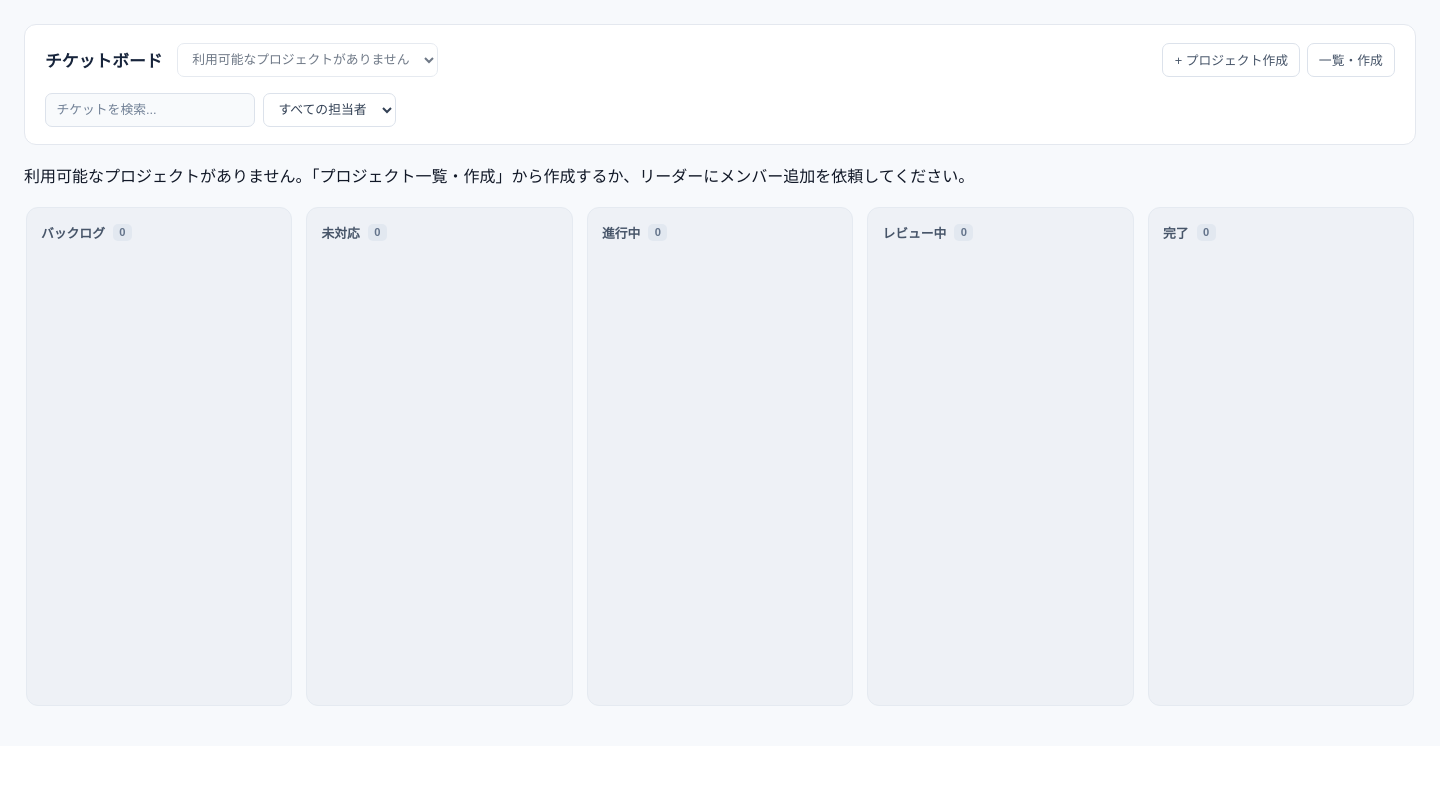
creates a project, loads its leader membership, and enables ticket creation
Click the button with aria-label "プロジェクト一覧・作成" at coordinates (1351, 60), box [1307,43,1395,77]
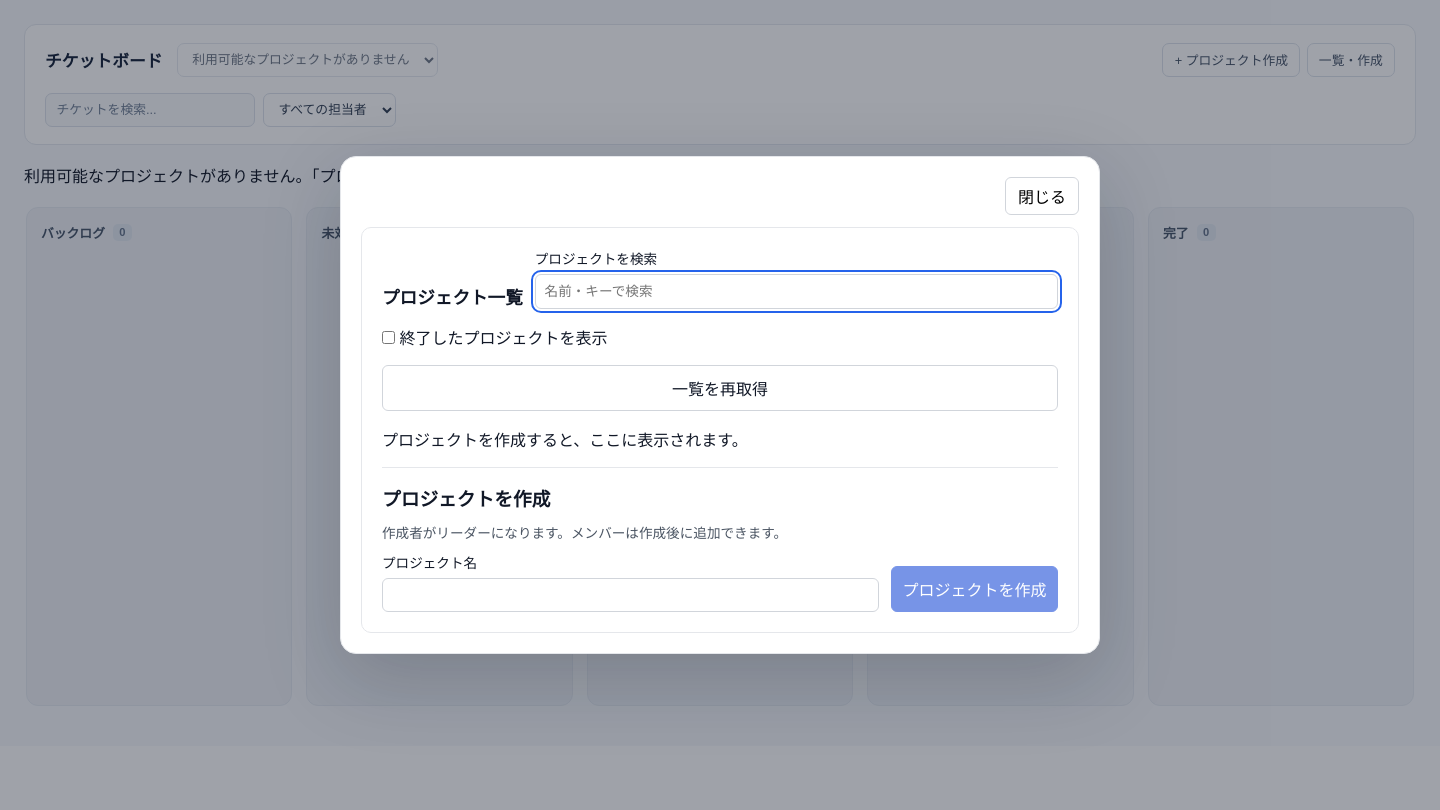
Type "New team" into the field labelled "プロジェクト名" at coordinates (631, 595), box [382,578,879,612]
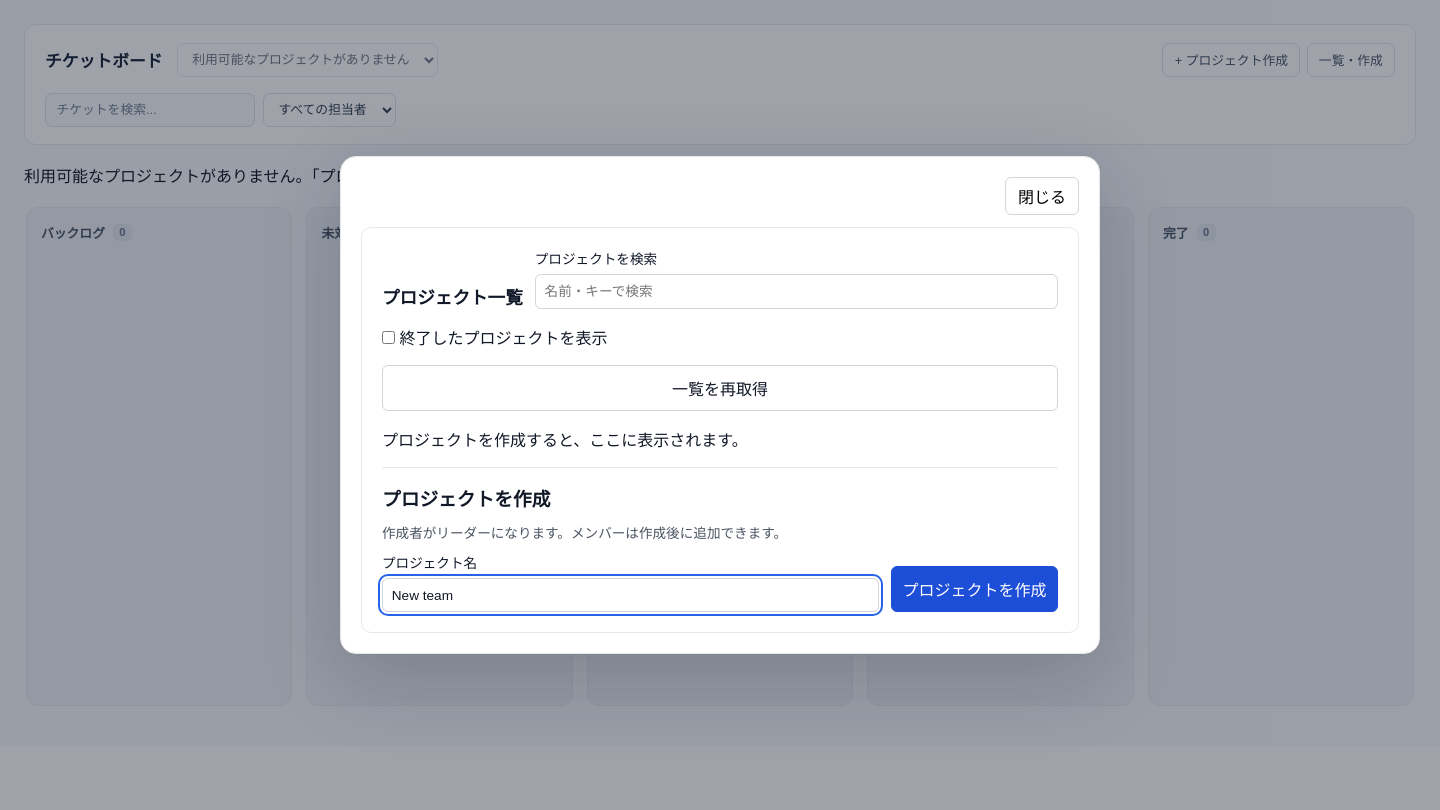
Click the button "プロジェクトを作成" at coordinates (975, 589), box [891,566,1058,612]
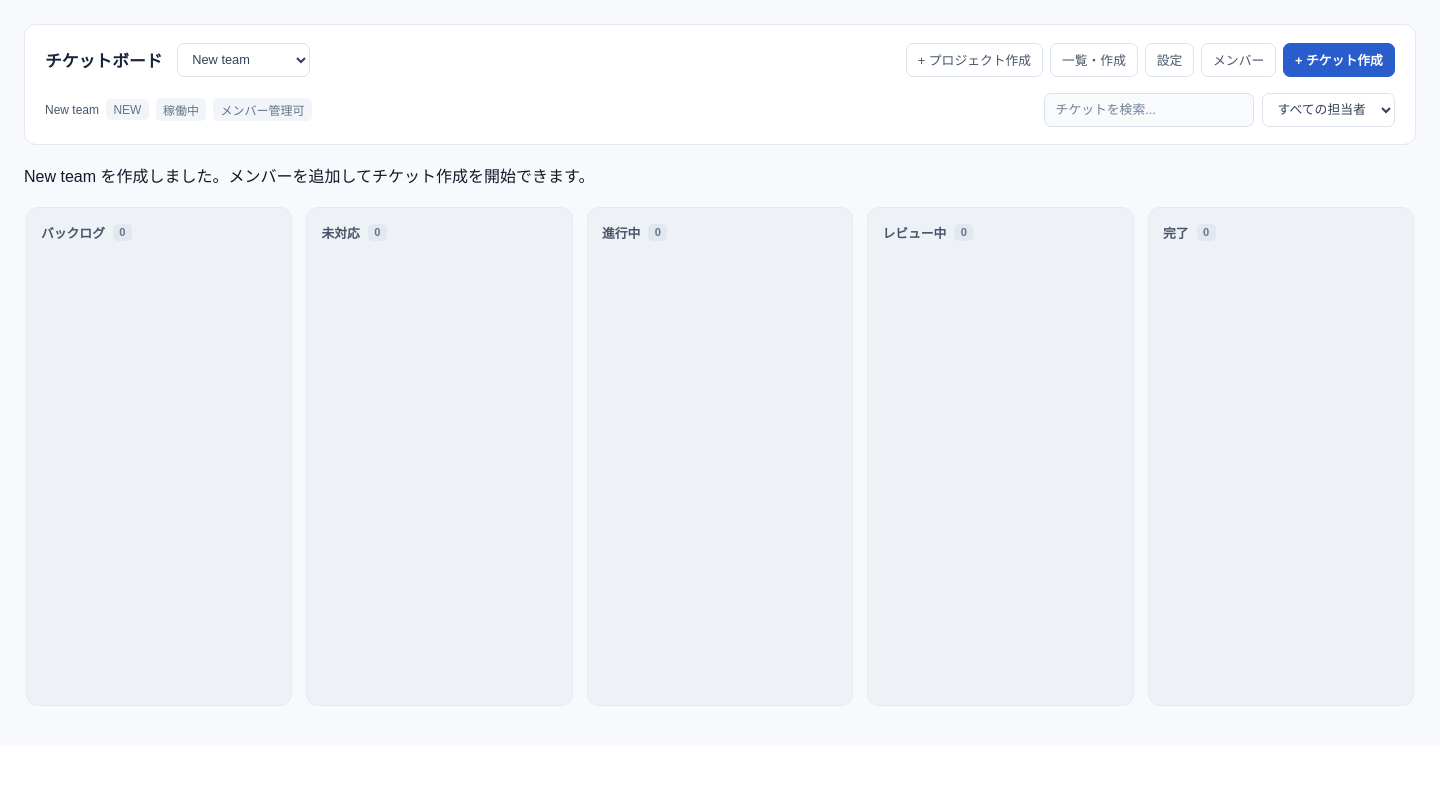
Check: the text "New team を作成しました。メンバーを追加してチケット作成を開始できます。" is shown, box [24,168,594,185]
Check: the dropdown named "プロジェクト" shows "New team", box [177,43,310,77]
Check: the button with aria-label "メンバー管理" is shown, box [1201,43,1276,77]
